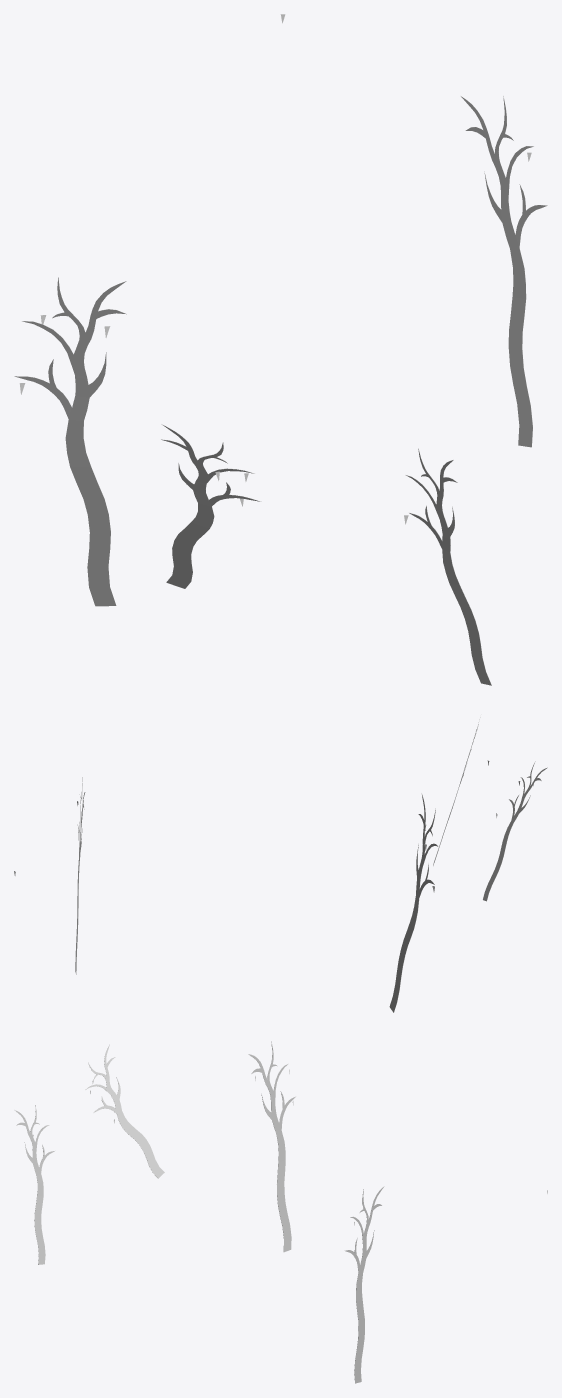
Rendered from GateTrees.fbx.
The picture shows the model from 3 angles, top to bottom: view 1: azimuth 30°, elevation 25°; view 2: azimuth 150°, elevation 25°; view 3: azimuth 270°, elevation 25°; orthographic projection. The views are drawn at different scales.
Parts seen in each view (by area): view 1: Belltower_Rescue_Tree (3), Belltower_Rescue_Tree (6), Belltower_Rescue_Tree (4), Belltower_Rescue_Tree (5); view 2: Belltower_Rescue_Tree (3), Belltower_Rescue_Tree (4), Belltower_Rescue_Tree (6); view 3: Belltower_Rescue_Tree (3), Belltower_Rescue_Tree (6), Belltower_Rescue_Tree (4), Belltower_Rescue_Tree (5).
Boxes of the visible parts, x1,y1,x2,y2 form: Belltower_Rescue_Tree (3): (14,277,126,606); Belltower_Rescue_Tree (6): (460,95,547,447); Belltower_Rescue_Tree (4): (161,424,261,588); Belltower_Rescue_Tree (5): (405,448,491,685); Belltower_Rescue_Tree (3): (389,793,438,1012); Belltower_Rescue_Tree (4): (483,761,547,901); Belltower_Rescue_Tree (6): (75,777,85,974); Belltower_Rescue_Tree (3): (248,1041,295,1252); Belltower_Rescue_Tree (6): (344,1186,384,1383); Belltower_Rescue_Tree (4): (85,1044,164,1178); Belltower_Rescue_Tree (5): (14,1105,54,1264).
Bounding box in the file's own units: 37.45 × 21.53 × 52.95.
